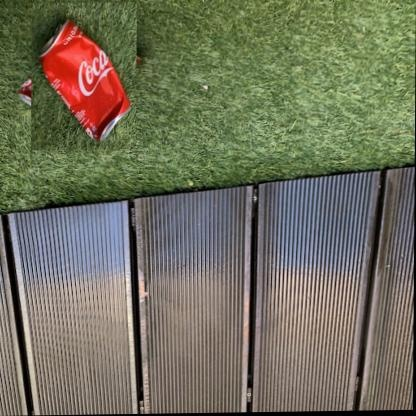trash: (40, 20, 130, 140)
